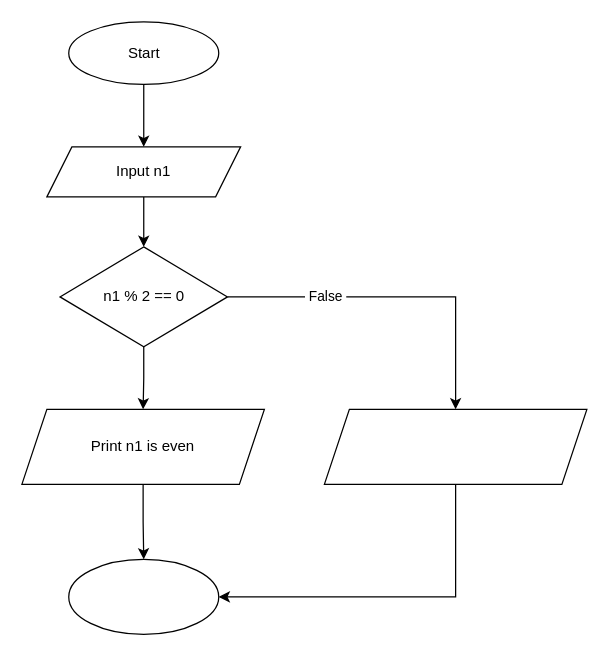
The diagram is 609 pixels wide and 656 high, and some of its shapes have lost their labels. The box of each missing label's shape, as (x1, y1, x2, y2) in pixels:
Print n1 is odd: (323, 408, 587, 484)
Stop: (68, 558, 219, 634)
